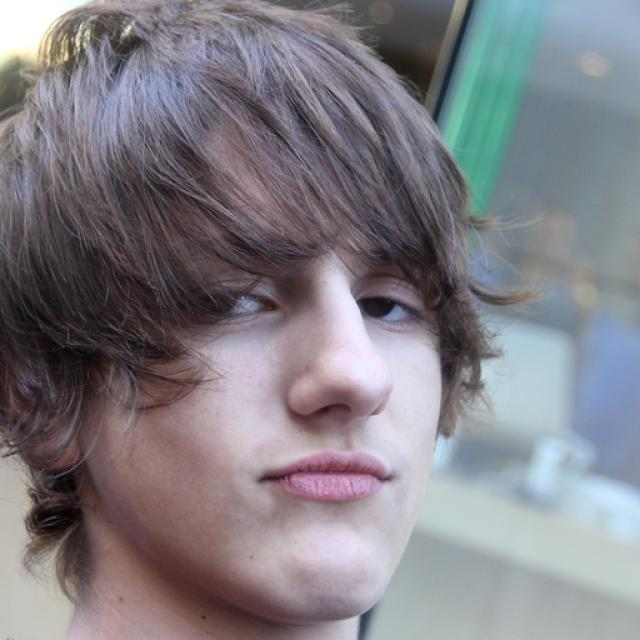neutral: (101, 140, 444, 615)
